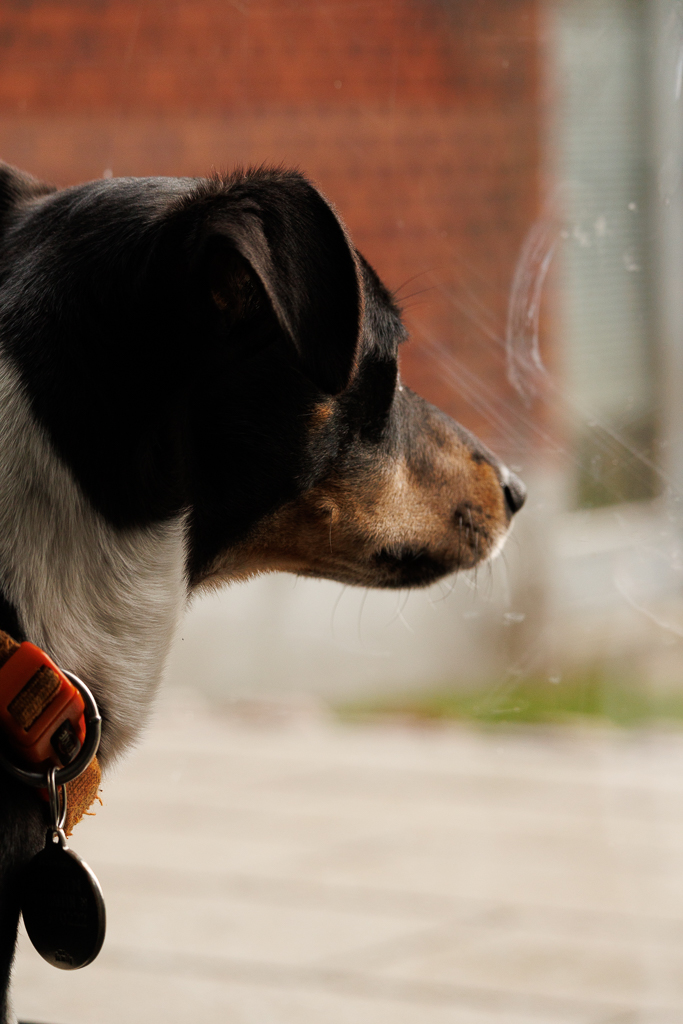Dog: (0, 147, 537, 1024)
